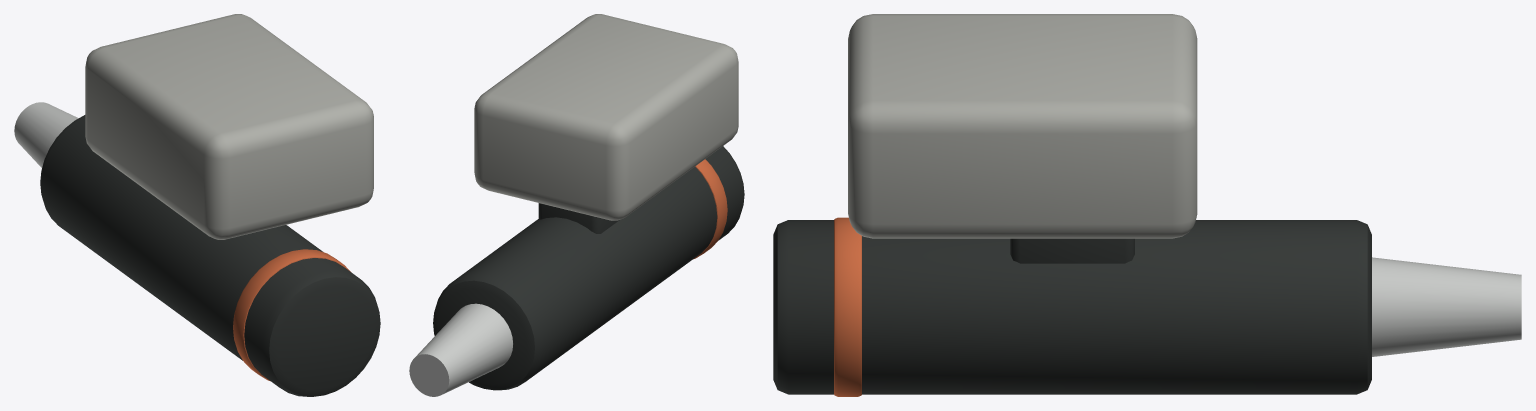
The model's file is screwdriving_unit_spindle_carriage.glb.
The picture shows the model from 3 angles, left to right: view 1: azimuth 30°, elevation 25°; view 2: azimuth 150°, elevation 25°; view 3: azimuth 270°, elevation 25°; orthographic projection. The views are drawn at different scales.
Parts seen in each view (by area): view 1: screwdriving_unit_spindle_carriage; view 2: screwdriving_unit_spindle_carriage; view 3: screwdriving_unit_spindle_carriage.
Part boxes in pixels (box(x1,y1,x2,y2)): screwdriving_unit_spindle_carriage: box(14, 14, 380, 396); screwdriving_unit_spindle_carriage: box(409, 14, 744, 396); screwdriving_unit_spindle_carriage: box(773, 14, 1521, 396).
Size of the model in its own units: 0.1 by 0.146 by 0.3.
